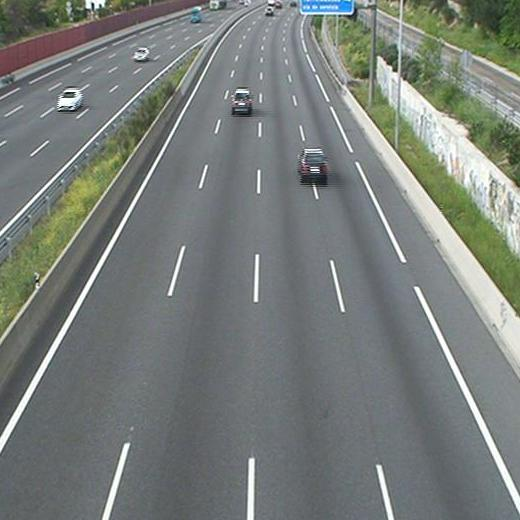car: (299, 150, 327, 175), (232, 89, 251, 111), (265, 7, 274, 16)
